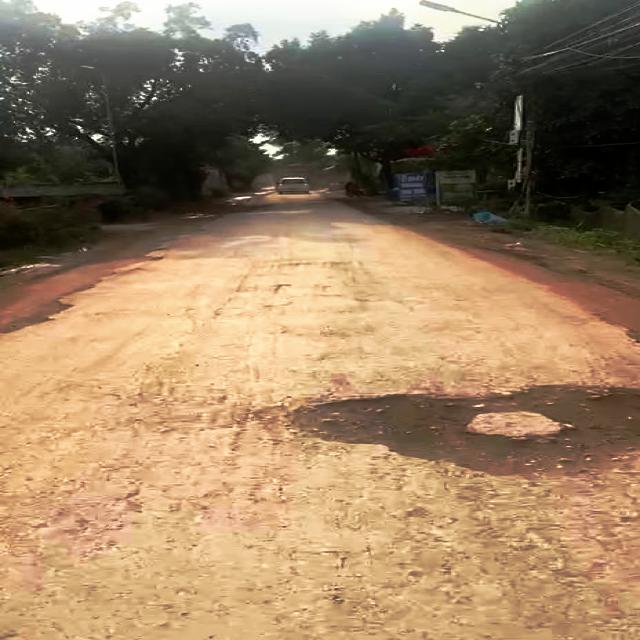pothole: (299, 378, 640, 482)
